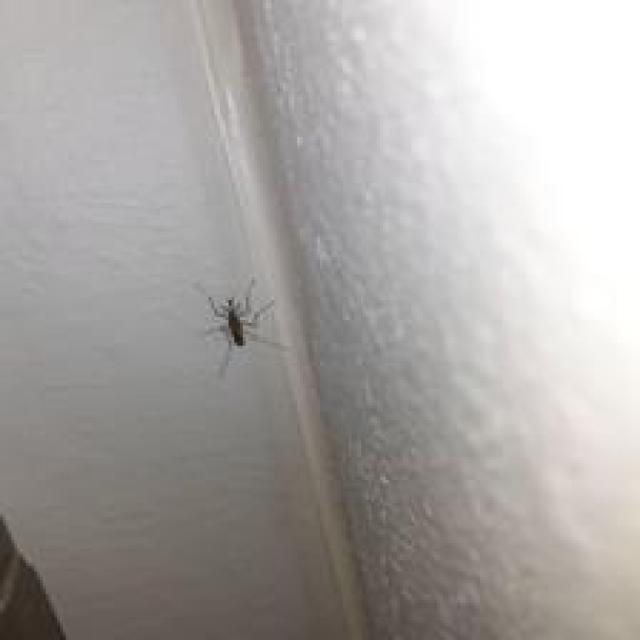Culex: (204, 277, 279, 377)
